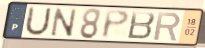8: (79, 7, 102, 40)
B: (125, 10, 157, 41)
N: (49, 7, 79, 38)
P: (100, 9, 131, 40)
R: (152, 11, 182, 42)
U: (22, 5, 53, 38)
